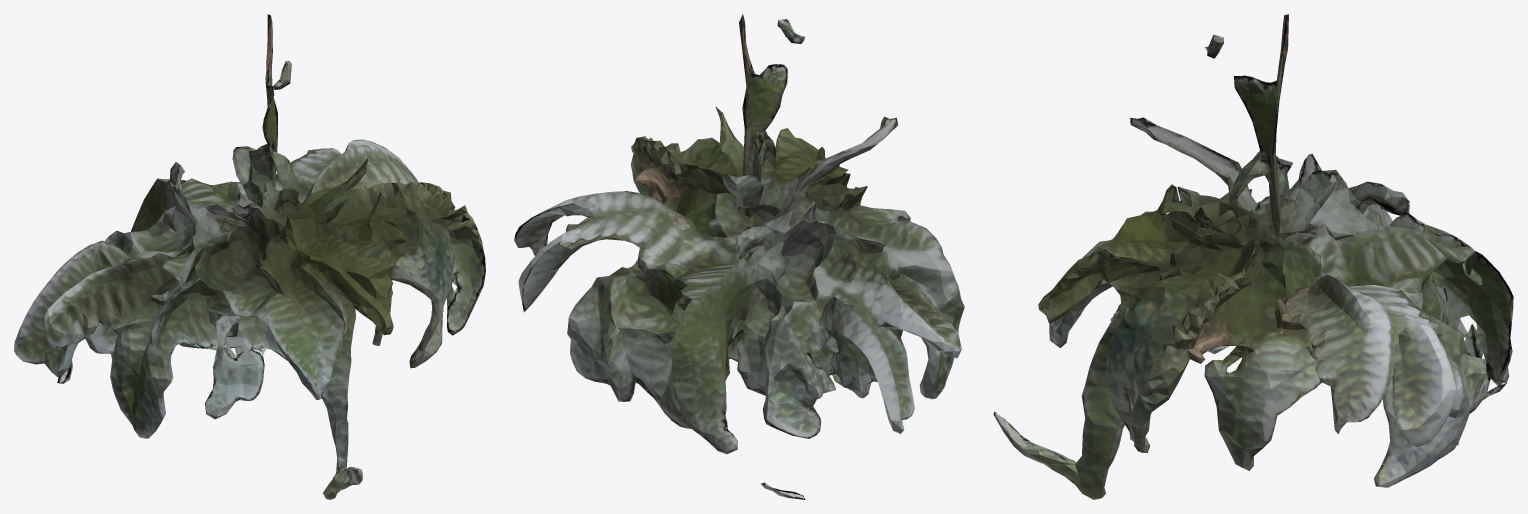
3 renders of one model, left to right at view 1: azimuth 30°, elevation 25°; view 2: azimuth 150°, elevation 25°; view 3: azimuth 270°, elevation 25°, orthographic. The views are drawn at different scales.
Visible parts, largest first — view 1: world; view 2: world; view 3: world.
Part boxes in pixels (left/top/right/bottom): world: left=14, top=14, right=485, bottom=499; world: left=514, top=14, right=964, bottom=499; world: left=993, top=14, right=1513, bottom=499.
Bounding box in the file's own units: 0.6276 × 0.6234 × 0.5908.
Materials: 1 (1 with a texture image).
